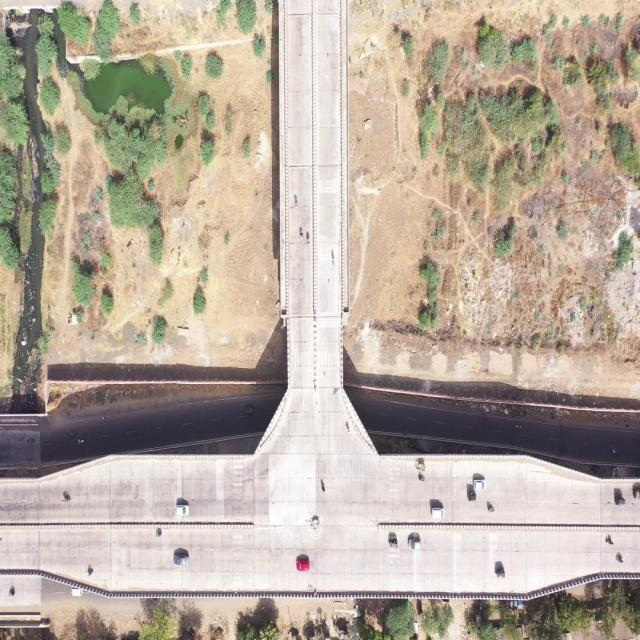3W: (493, 565, 507, 581), (389, 537, 401, 555), (467, 490, 478, 504)
Cars: (293, 550, 312, 578), (174, 496, 193, 520), (406, 532, 424, 556), (172, 548, 190, 570), (429, 502, 445, 522), (68, 587, 86, 602), (473, 474, 486, 490), (614, 549, 624, 566), (604, 533, 615, 548), (616, 492, 626, 508)
M2W: (60, 488, 76, 510), (7, 582, 20, 602), (84, 561, 97, 580), (318, 474, 328, 497), (344, 419, 353, 441), (416, 471, 428, 486), (486, 501, 496, 518), (292, 191, 299, 211), (305, 230, 311, 252), (154, 528, 164, 540), (298, 226, 304, 242), (330, 250, 335, 268)
